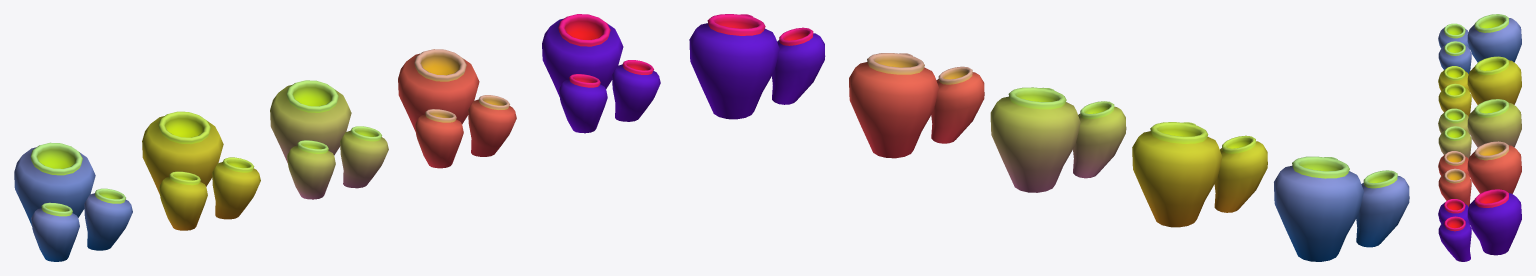
File: Coral Reef Set5.glb
3 renders of one model, left to right at view 1: azimuth 30°, elevation 25°; view 2: azimuth 150°, elevation 25°; view 3: azimuth 270°, elevation 25°, orthographic. The views are drawn at different scales.
Parts seen in each view (by area): view 1: E_CoralReef.001, E_CoralReef.002, E_CoralReef, E_CoralReef.003, E_CoralReef.004; view 2: E_CoralReef.001, E_CoralReef.002, E_CoralReef, E_CoralReef.003, E_CoralReef.004; view 3: E_CoralReef.004, E_CoralReef.003, E_CoralReef.002, E_CoralReef, E_CoralReef.001.
Boxes of the visible parts, bbox=[...] form: E_CoralReef.001: bbox=[142, 111, 260, 230]; E_CoralReef.002: bbox=[270, 80, 388, 199]; E_CoralReef: bbox=[14, 142, 132, 261]; E_CoralReef.003: bbox=[398, 49, 516, 168]; E_CoralReef.004: bbox=[542, 14, 660, 133]; E_CoralReef.001: bbox=[1132, 122, 1267, 227]; E_CoralReef.002: bbox=[990, 87, 1126, 192]; E_CoralReef: bbox=[1274, 156, 1409, 261]; E_CoralReef.003: bbox=[849, 53, 984, 158]; E_CoralReef.004: bbox=[689, 14, 825, 119]; E_CoralReef.004: bbox=[1438, 189, 1521, 261]; E_CoralReef.003: bbox=[1438, 141, 1521, 206]; E_CoralReef.002: bbox=[1438, 99, 1521, 158]; E_CoralReef: bbox=[1438, 14, 1521, 73]; E_CoralReef.001: bbox=[1438, 56, 1521, 116].
Bounding box in the file's own units: 9.75 × 1.26 × 1.67.
1 material, 1 textured.
